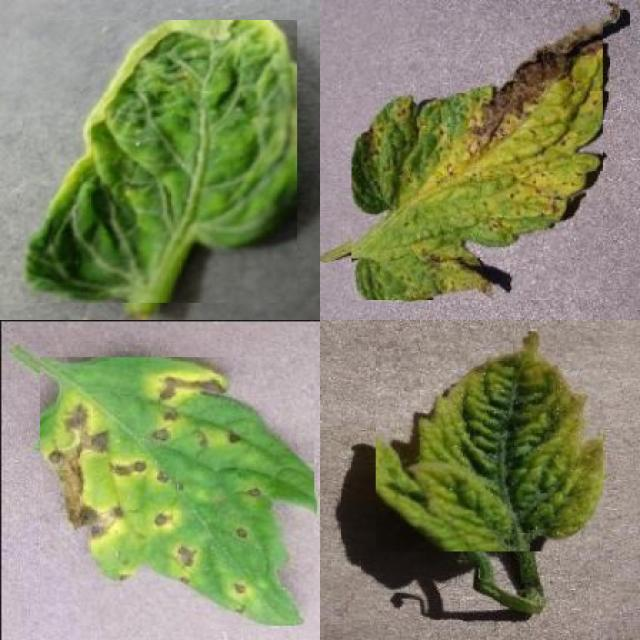Septoria: (352, 6, 604, 300), (39, 357, 314, 626)
Yellow Leaf Curl Virus: (22, 20, 298, 304), (376, 328, 603, 552)
